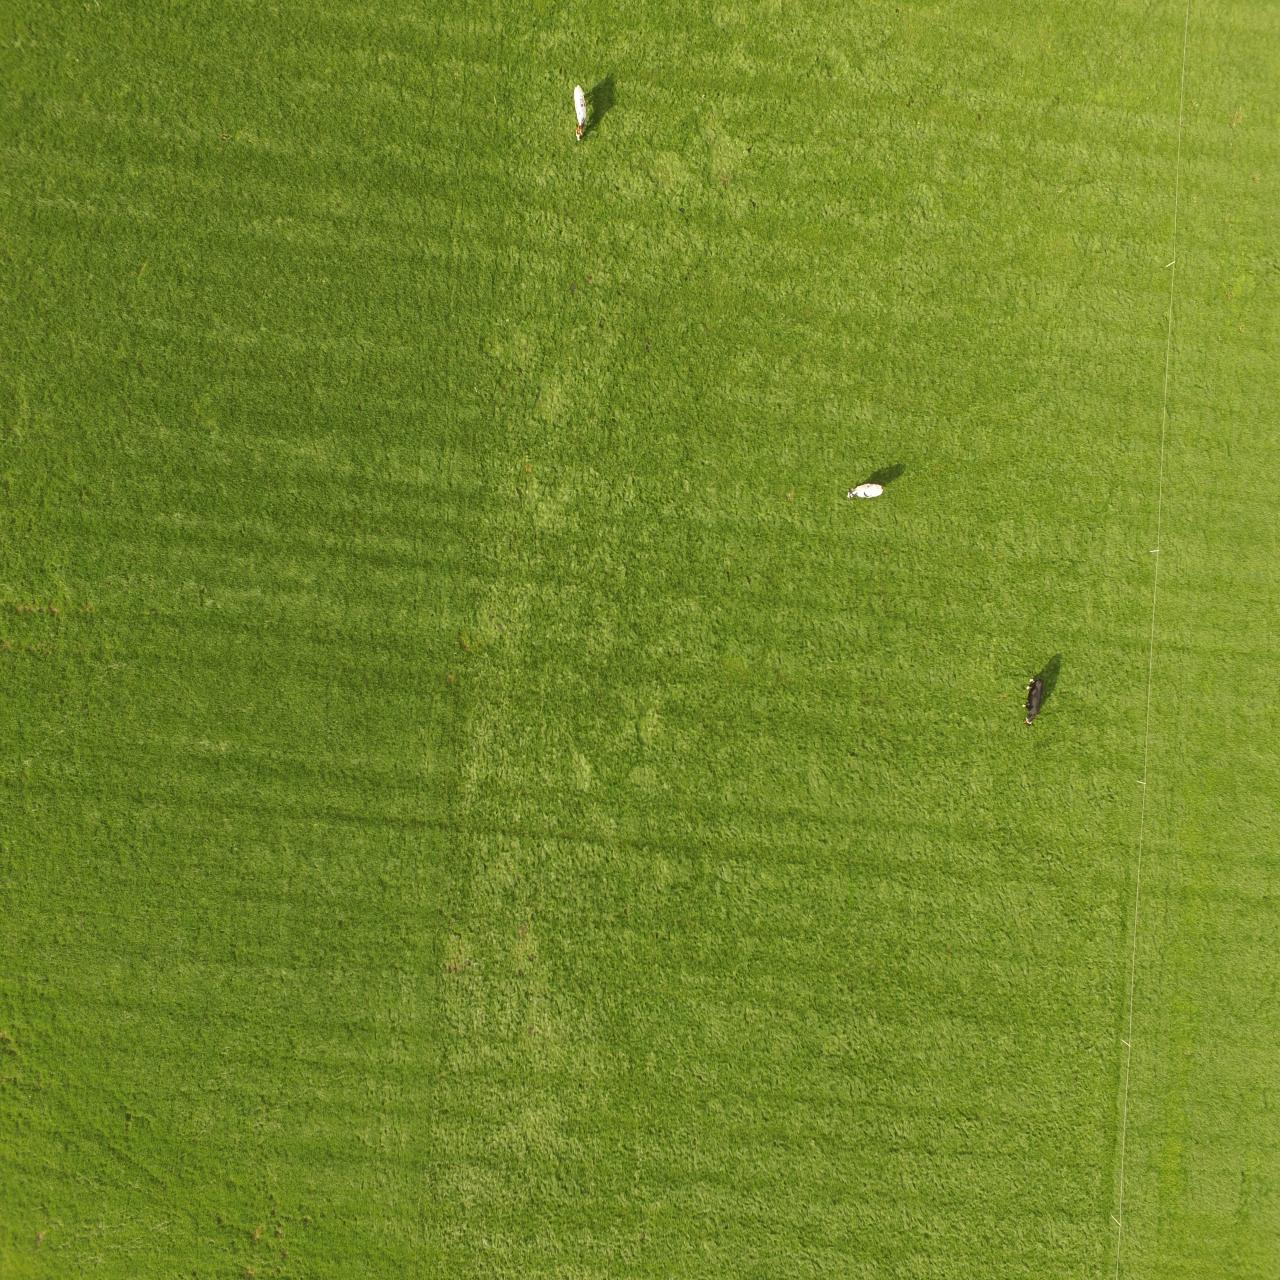cow: (568, 81, 590, 144), (1022, 675, 1044, 726), (844, 482, 884, 502)
